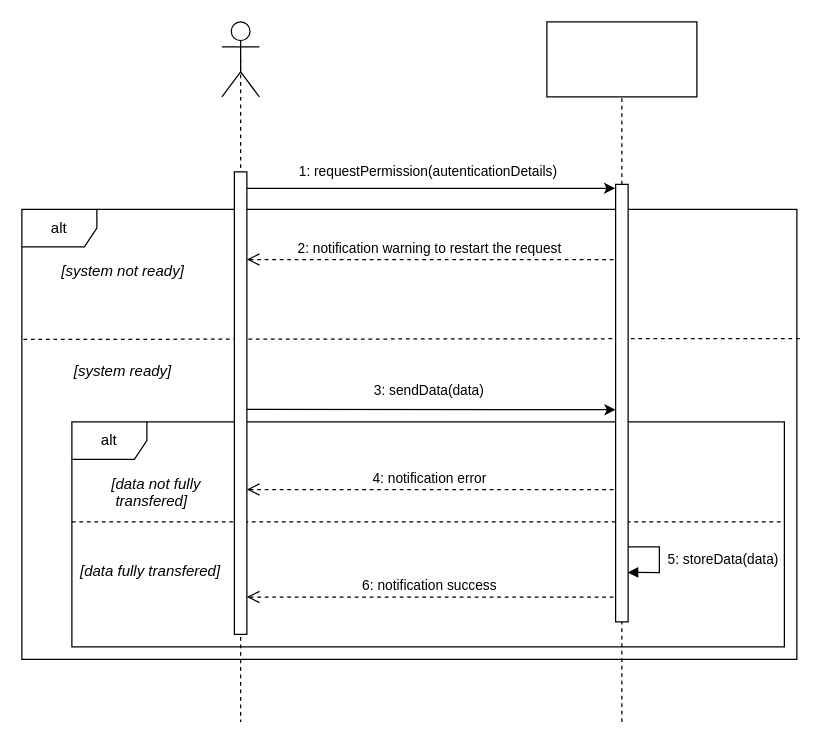
Some shapes in this 825 by 745 pixel diagram are drawn without their labels. Each missing label, with the centre of its shape:
Municipality: (240,59)
SafeStreets: (621,59)
